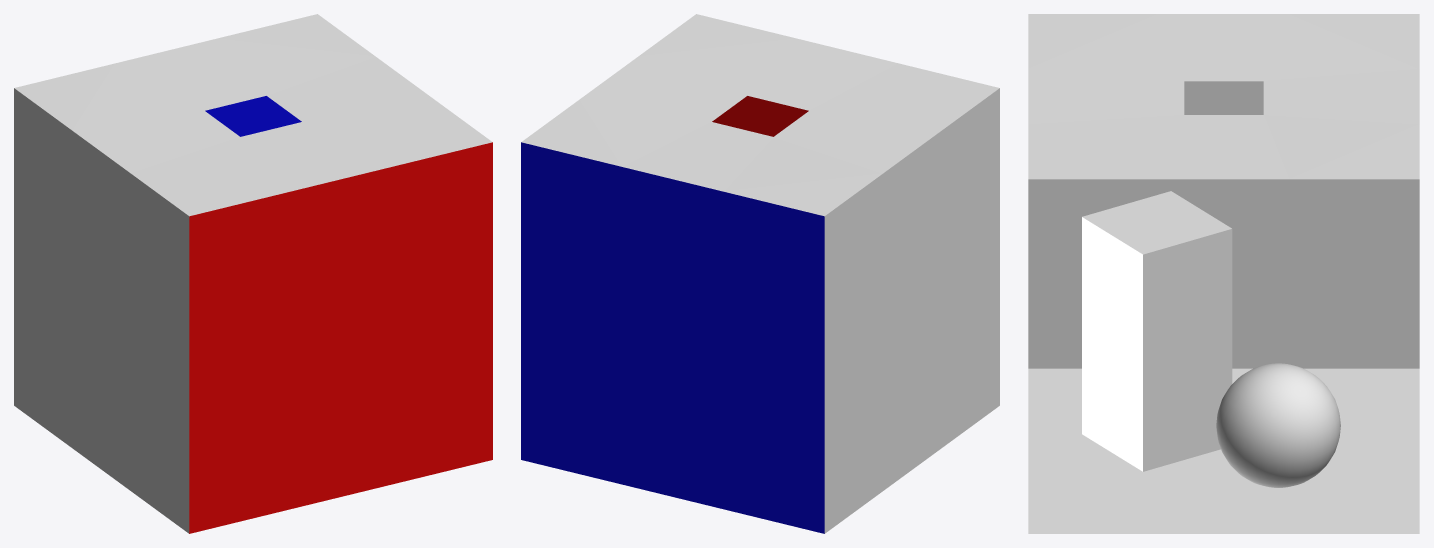
Rendered from cornell-2.glb.
3 renders of one model, left to right at view 1: azimuth 30°, elevation 25°; view 2: azimuth 150°, elevation 25°; view 3: azimuth 270°, elevation 25°, orthographic. The views are drawn at different scales.
Parts seen in each view (by area): view 1: Cube; view 2: Cube; view 3: Cube, Cube.001, Sphere.
Boxes of the visible parts, x1=… form: Cube: x1=14, y1=14, x2=492, y2=533; Cube: x1=521, y1=14, x2=999, y2=533; Cube: x1=1028, y1=14, x2=1419, y2=533; Cube.001: x1=1082, y1=191, x2=1232, y2=471; Sphere: x1=1216, y1=363, x2=1340, y2=487.
Bounding box in the file's own units: 10 × 10.02 × 10.
